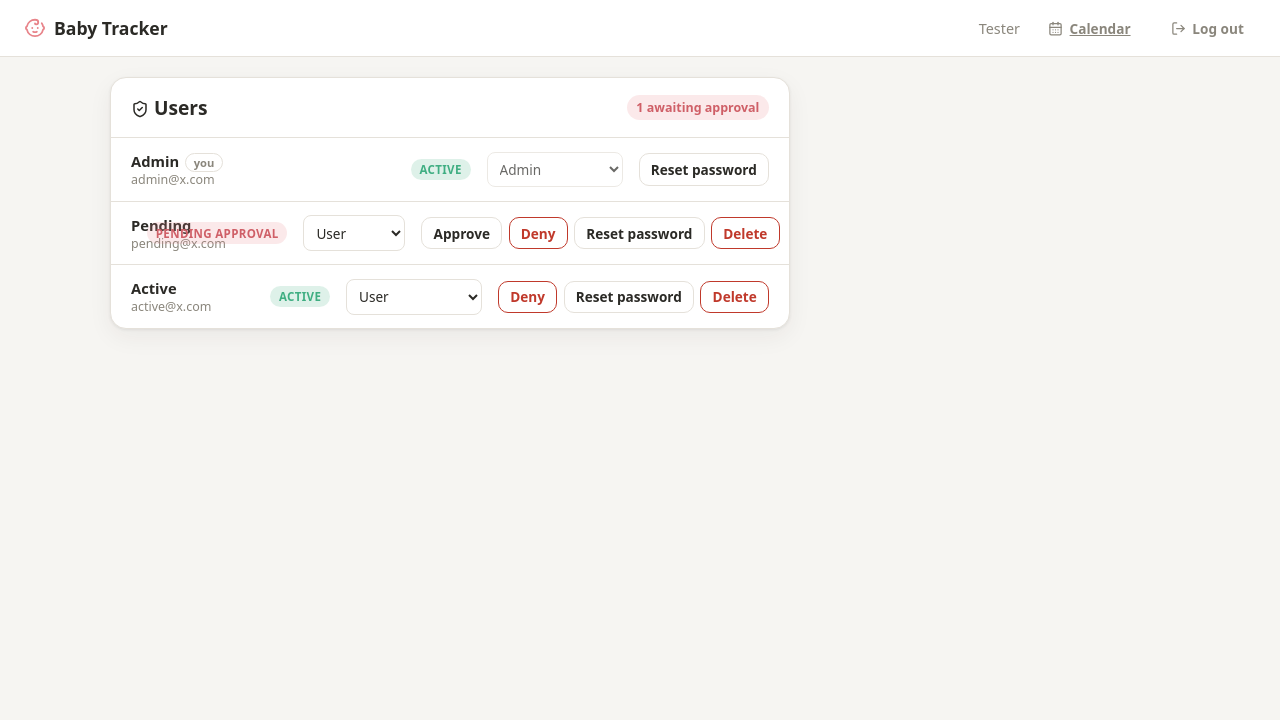
Test: AdminPage › validates password length in reset modal
Click the button "Reset password" in the row of "Pending approval".
click(639, 233)  # box [574,217,705,249]
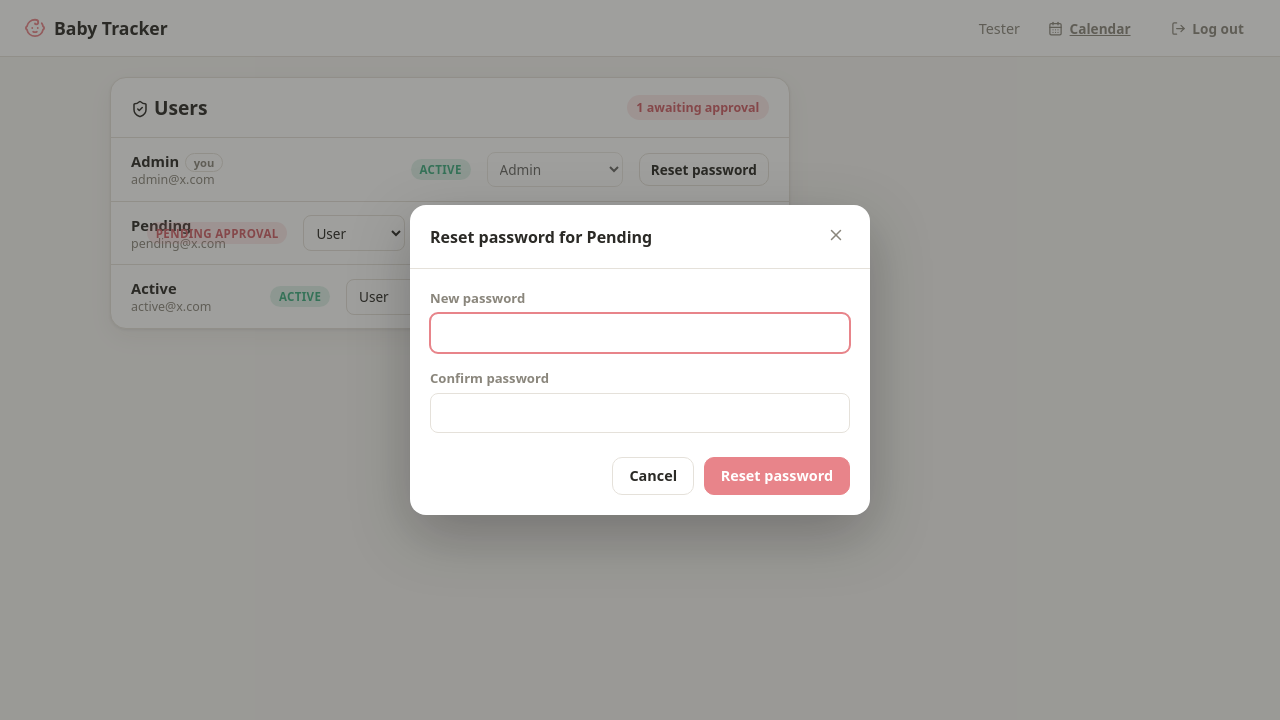
Type "short" into the password field labelled "New password".
click(640, 333); type("short")  # box [430,313,850,353]
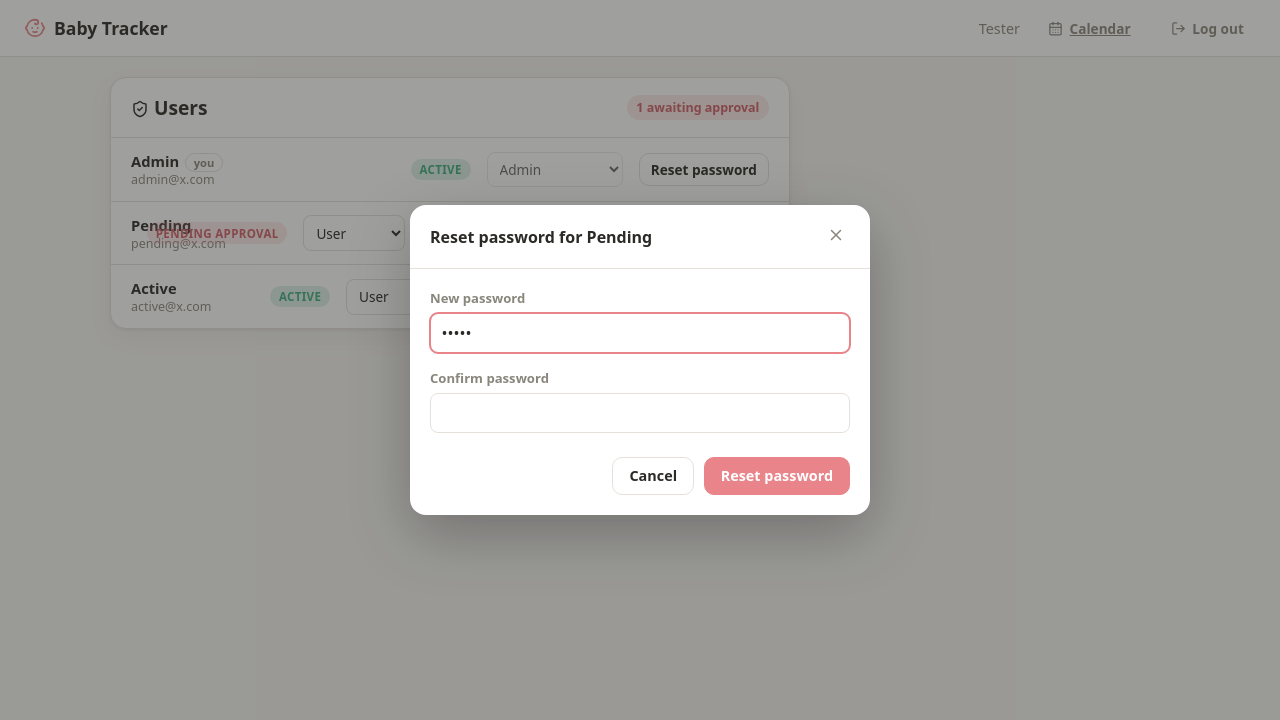
Type "short" into the password field labelled "Confirm password".
click(640, 413); type("short")  # box [430,393,850,433]
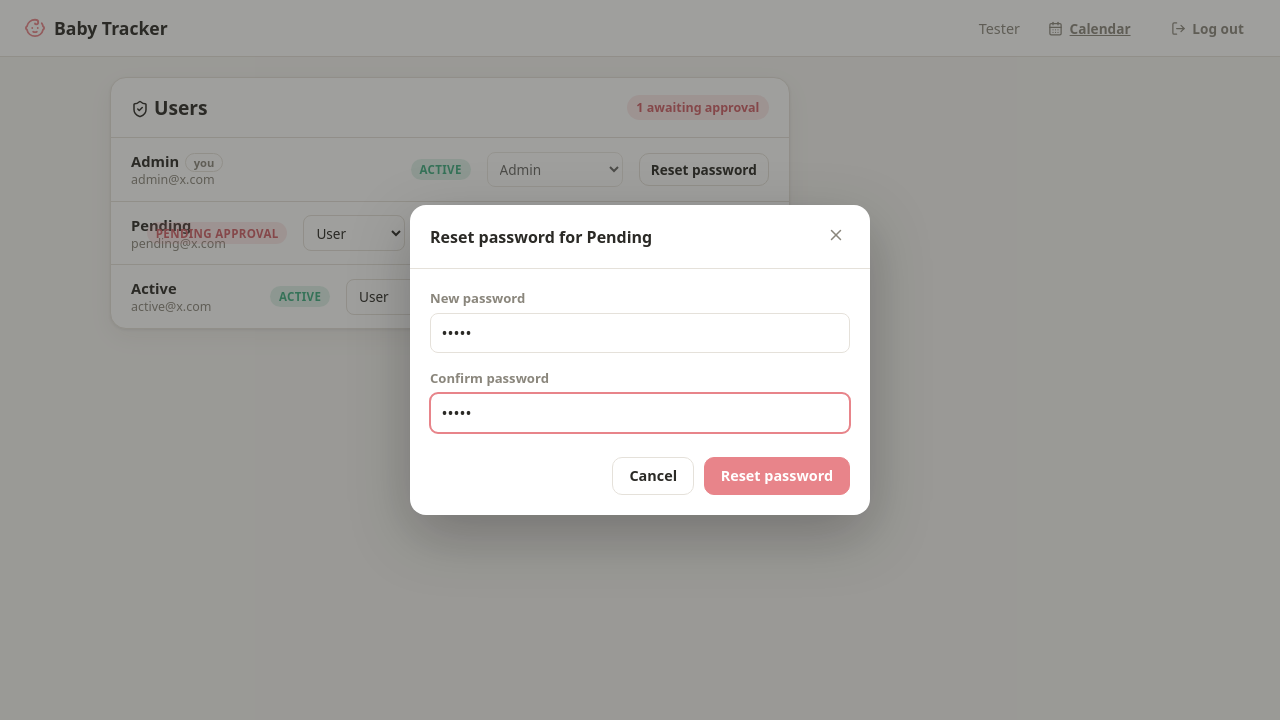
Click the button "Reset password".
click(777, 476)  # box [704,457,850,495]
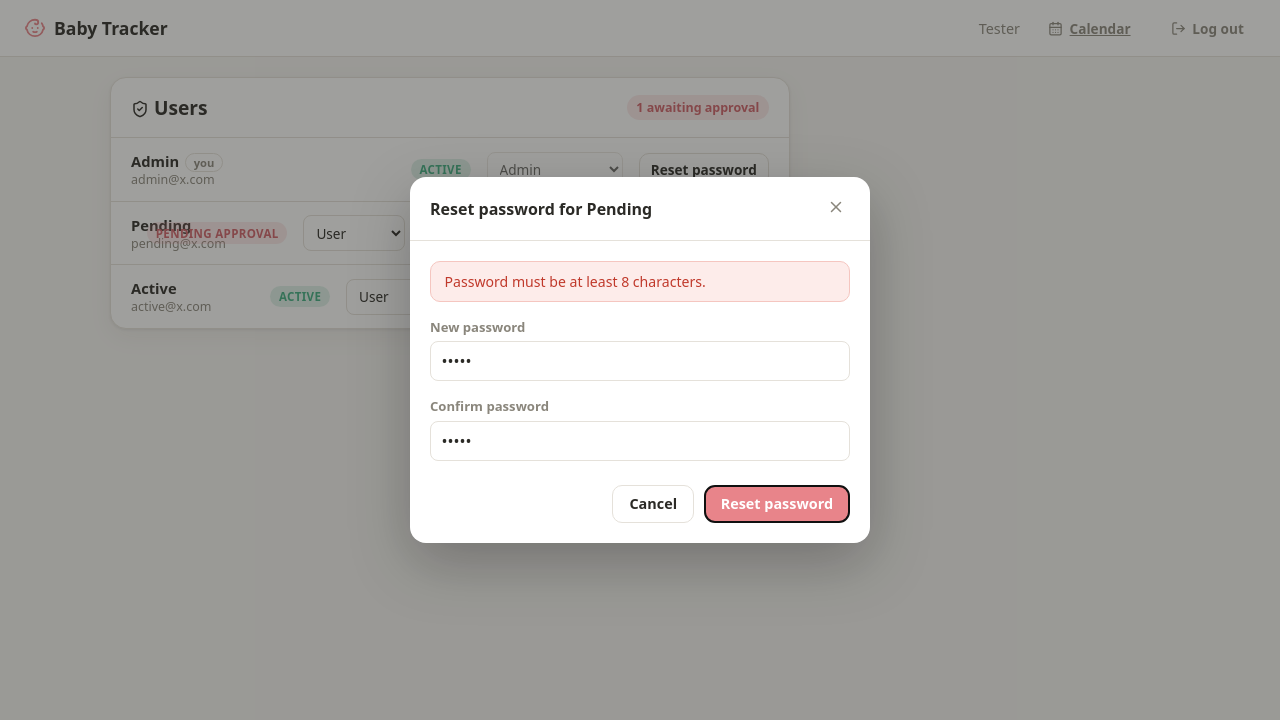
Check: the text "Password must be at least 8 characters." is shown, box [430,261,850,302]
